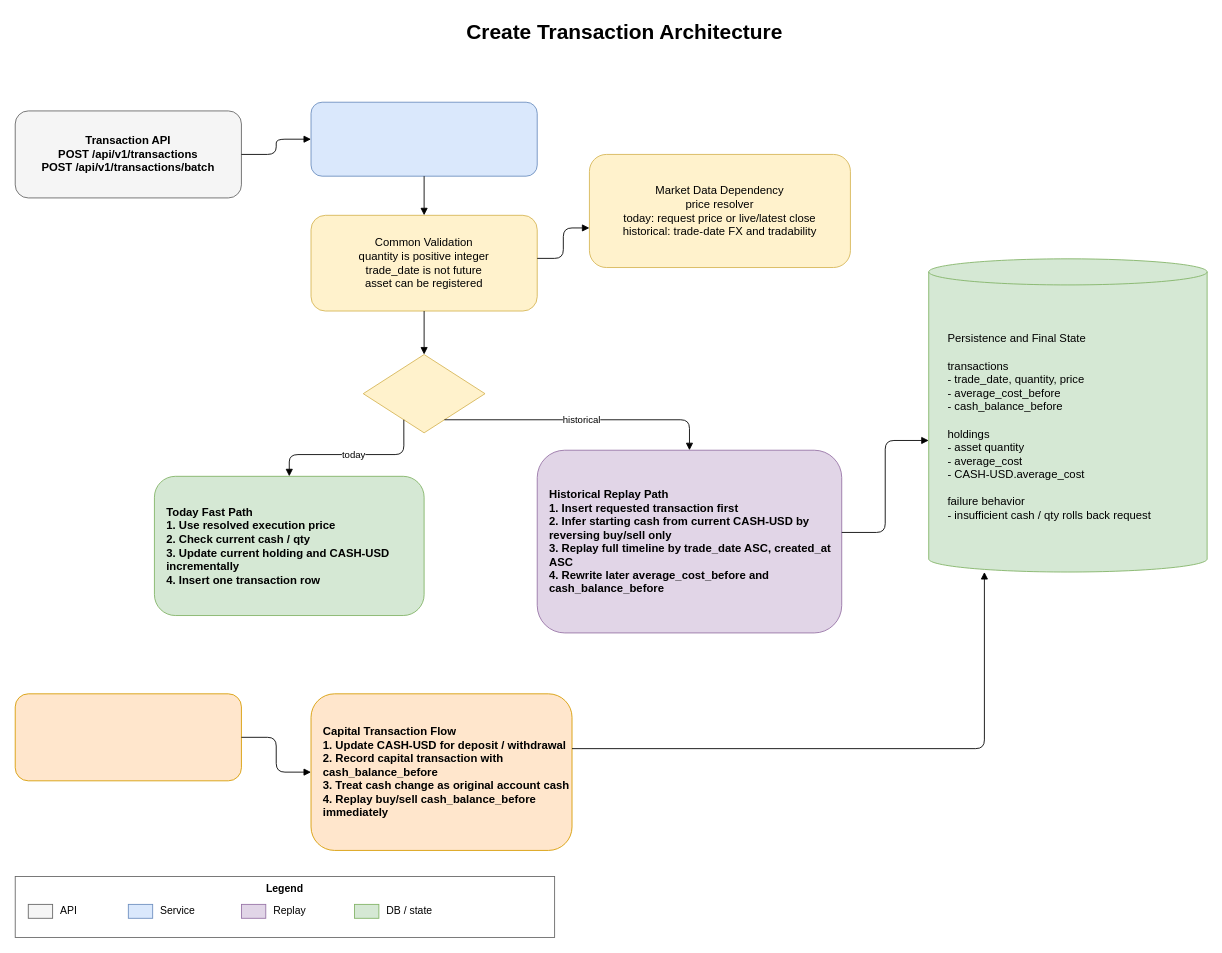
This 1222x953 diagram has some shape labels left out. The centre of each missing label's shape, as x and y in pixels:
"Capital API POST /api/v1/portfolios/capital deposit / withdrawal" goes at [127,737].
"trade_date today?" goes at [423,393].
"Transaction Service create_transaction() / batch" goes at [423,138].
